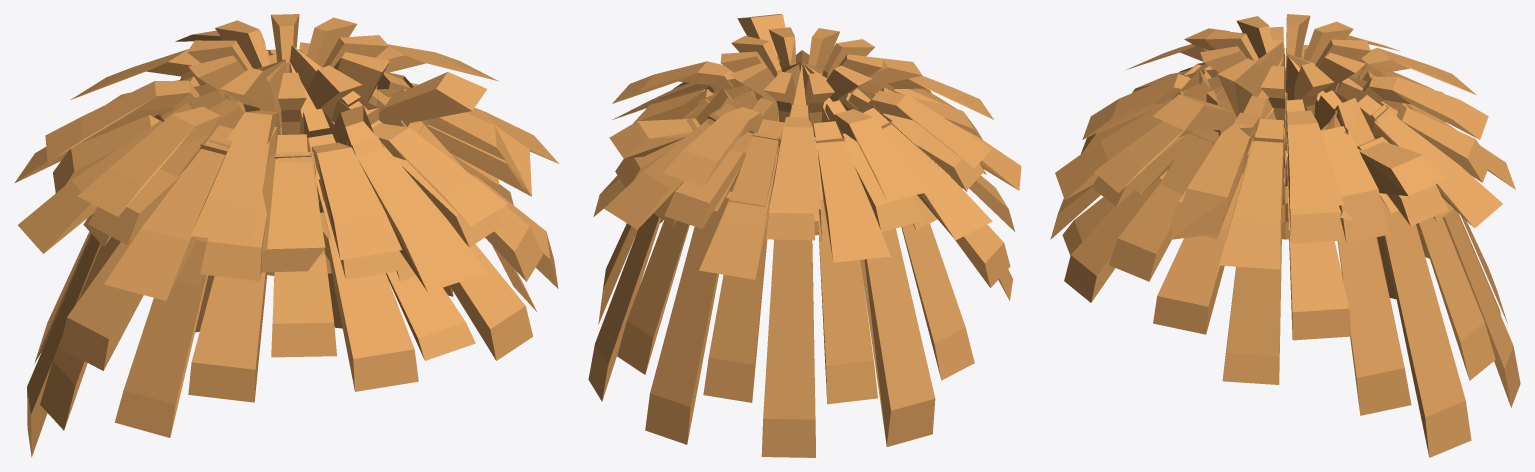
Rendered from Herculeshair.fbx.
3 renders of one model, left to right at view 1: azimuth 30°, elevation 25°; view 2: azimuth 150°, elevation 25°; view 3: azimuth 270°, elevation 25°, orthographic. The views are drawn at different scales.
Visible parts, largest first — view 1: pSphere1; view 2: pSphere1; view 3: pSphere1.
Boxes of the visible parts, x1,y1,x2,y2 form: pSphere1: (14,14,558,457); pSphere1: (588,14,1021,457); pSphere1: (1050,14,1520,457).
Bounding box in the file's own units: 188 × 146 × 184.
